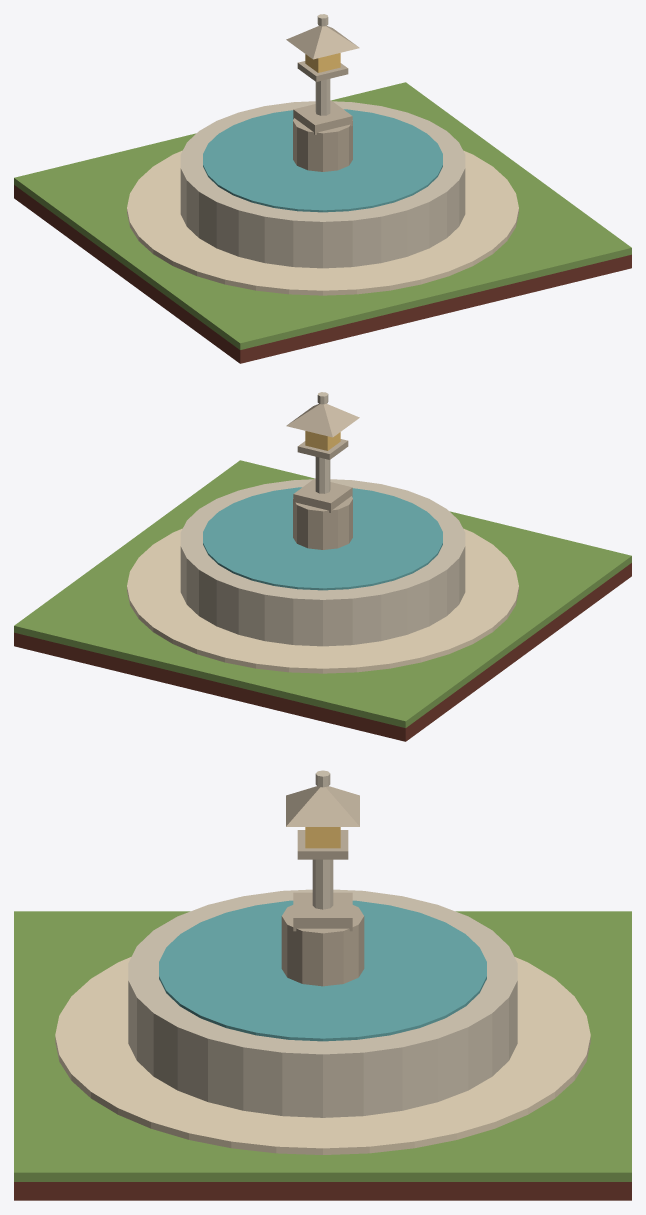
The model's file is lantern-basin.glb.
3 renders of one model, top to bottom at view 1: azimuth 30°, elevation 25°; view 2: azimuth 150°, elevation 25°; view 3: azimuth 270°, elevation 25°, orthographic. The views are drawn at different scales.
Visible parts, largest first — view 1: lantern-basin; view 2: lantern-basin; view 3: lantern-basin.
Boxes of the visible parts, x1,y1,x2,y2 form: lantern-basin: (14, 14, 631, 363); lantern-basin: (14, 392, 631, 741); lantern-basin: (14, 770, 631, 1200).
Size of the model in its own units: 3 by 1.59 by 3.
